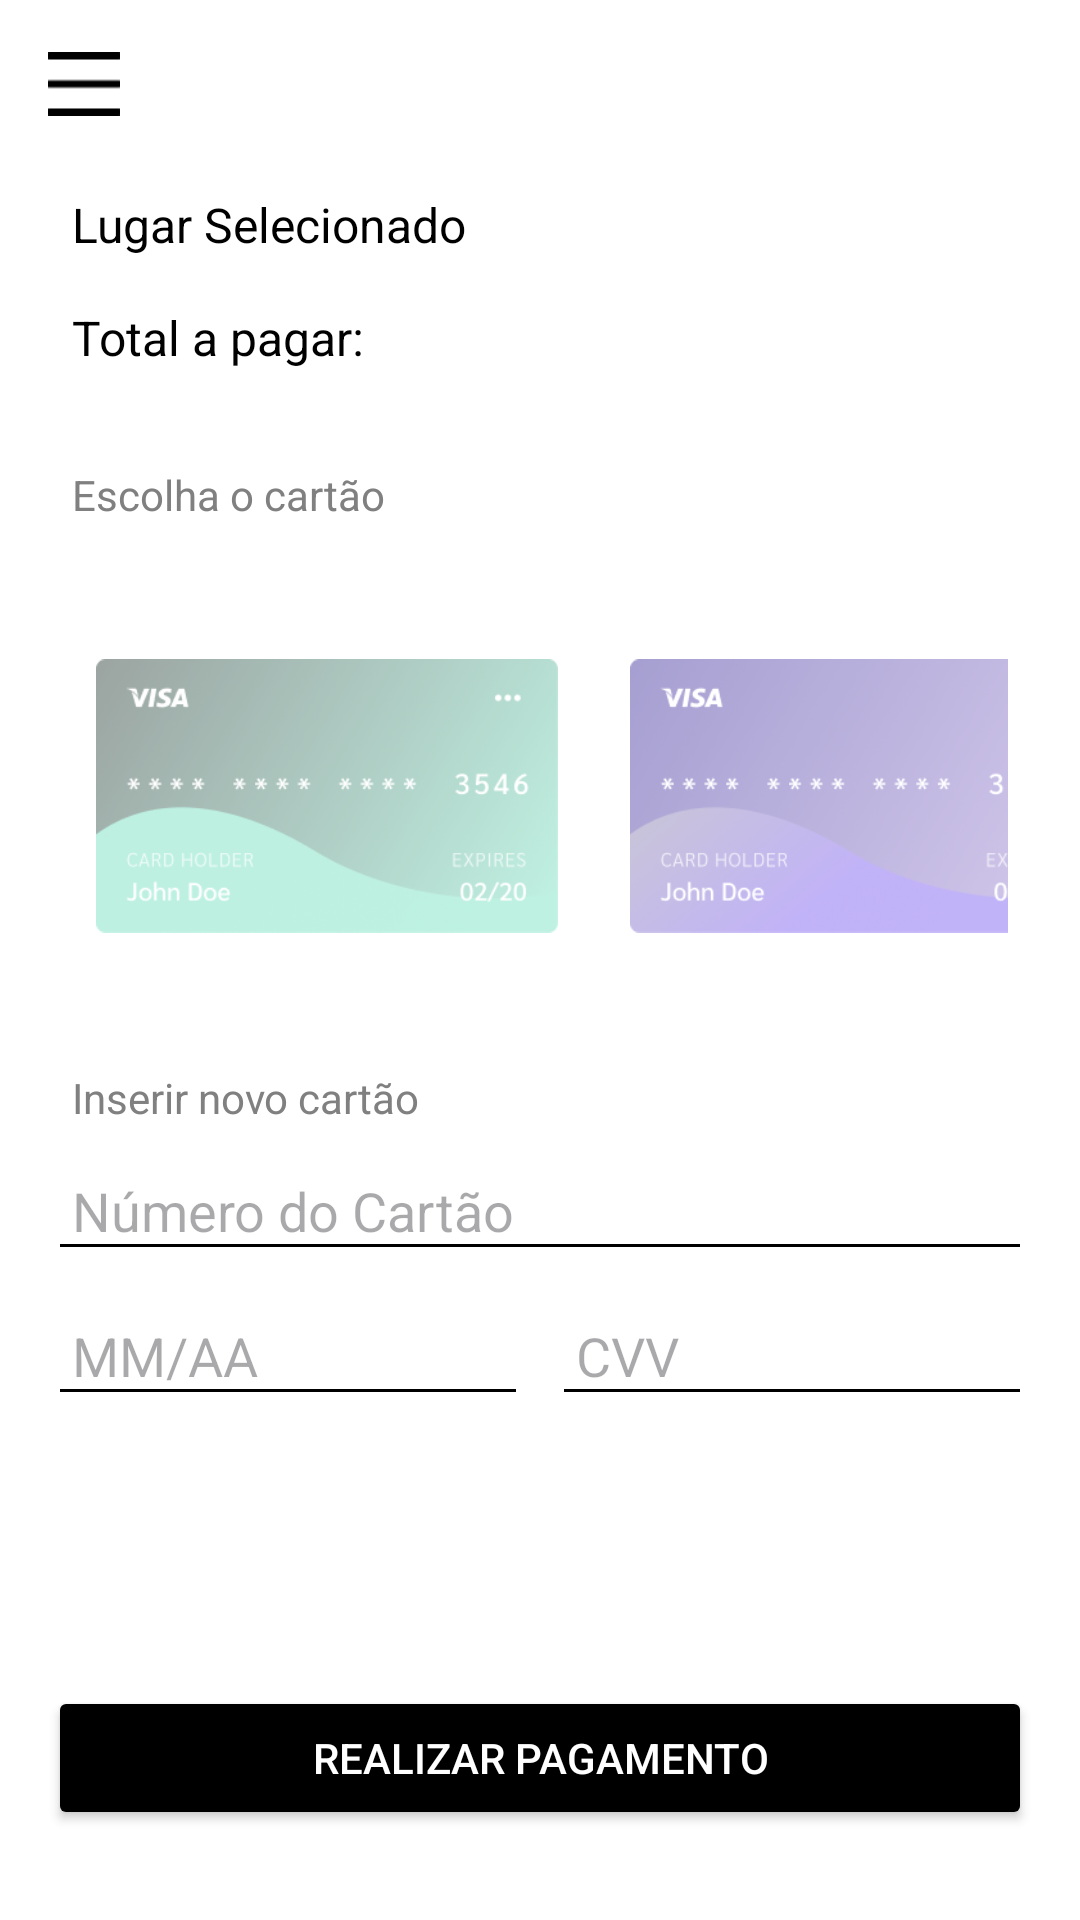

Point at icon controls on the screen. Image size 1080x1920, points as point (x, y).
menu: point (84, 84)
